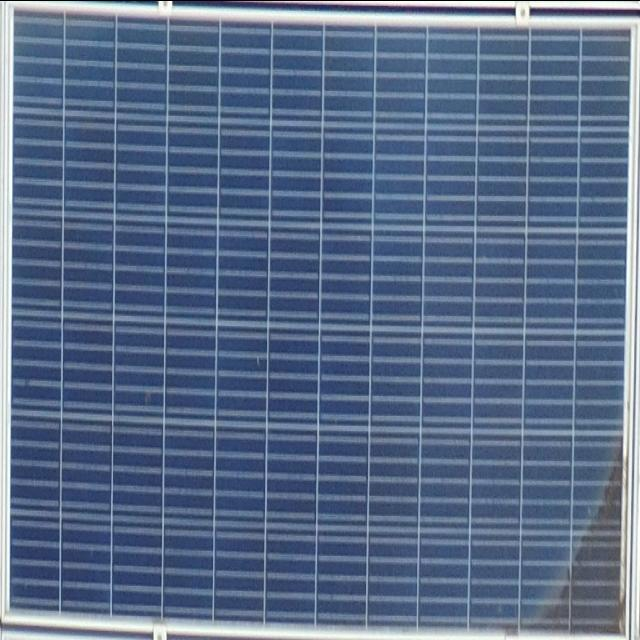Dust: (510, 436, 628, 636)
